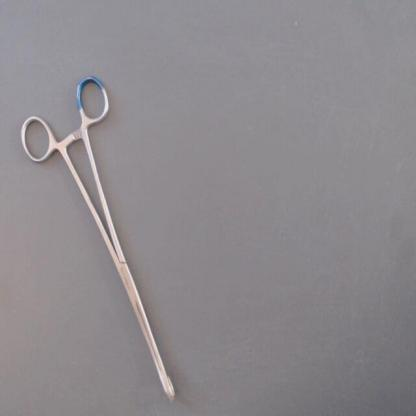Sponge Forceps: (15, 68, 184, 411)
